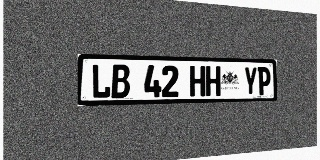2: (162, 65, 178, 97)
4: (144, 65, 161, 98)
B: (111, 64, 130, 98)
H: (190, 66, 205, 97), (206, 66, 221, 96)
L: (91, 64, 111, 99)
P: (258, 67, 270, 95)
Y: (244, 67, 257, 96)
